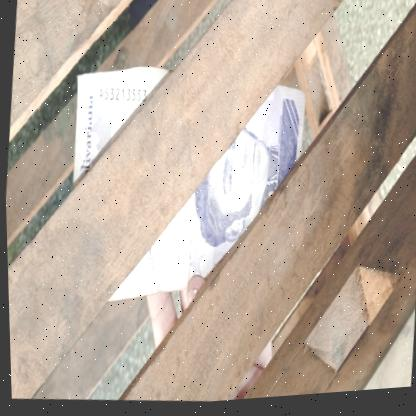ten-front-vef: (61, 55, 314, 332)
